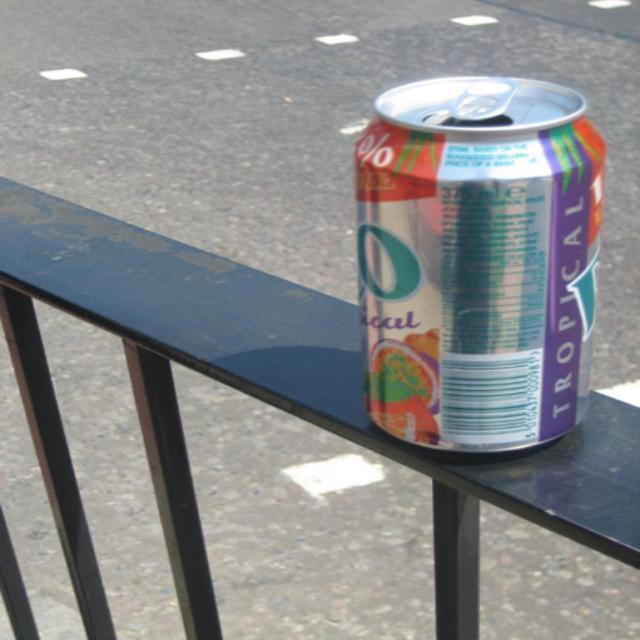metal-can: (351, 68, 615, 464)
